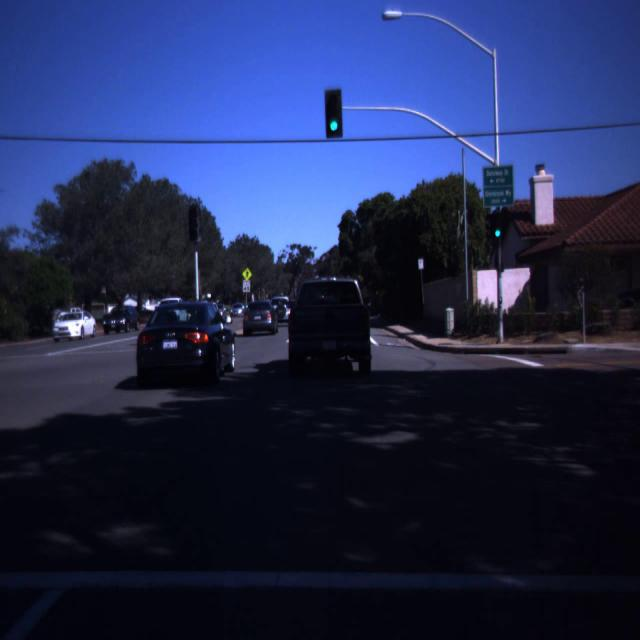yesil: (324, 89, 342, 138), (485, 213, 508, 238)
